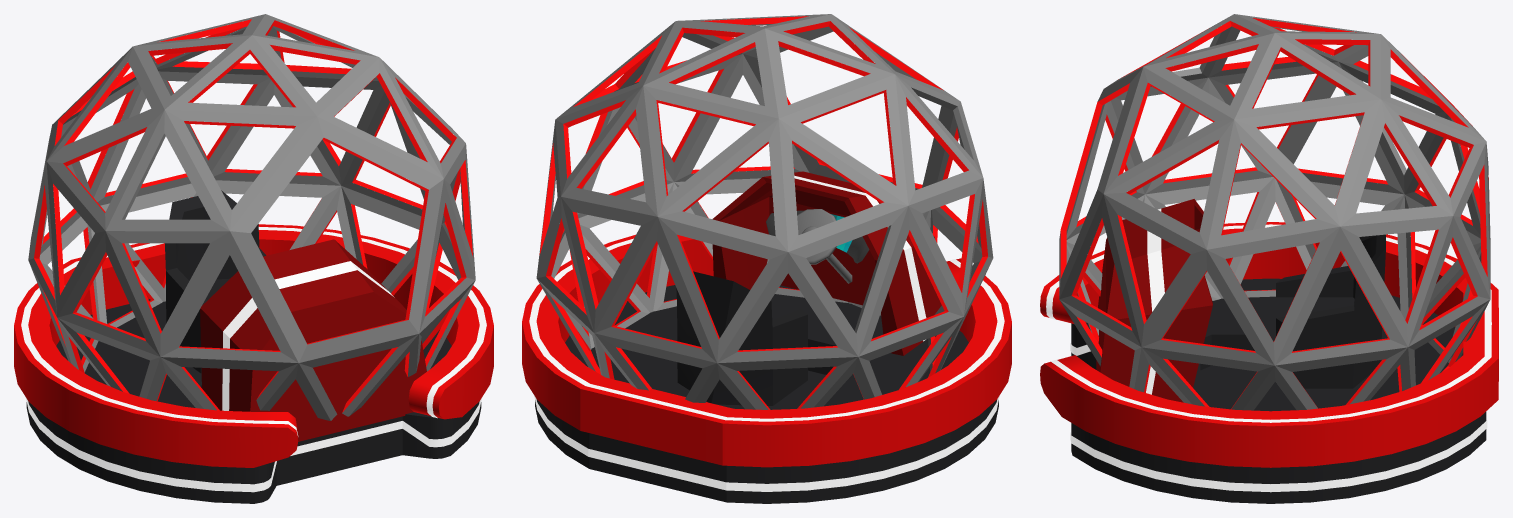
The model's file is vehicle.cage.01.gltf.
3 views of the same model, side by side, from view 1: azimuth 30°, elevation 25°; view 2: azimuth 150°, elevation 25°; view 3: azimuth 270°, elevation 25° (orthographic). The views are drawn at different scales.
Parts seen in each view (by area): view 1: cageCart; view 2: cageCart; view 3: cageCart.
Boxes of the visible parts, x1,y1,x2,y2 form: cageCart: (14,14,493,503); cageCart: (522,14,1011,503); cageCart: (1040,14,1498,503).
Bounding box in the file's own units: 2.11 × 1.8 × 2.
2 materials, 2 textured.
